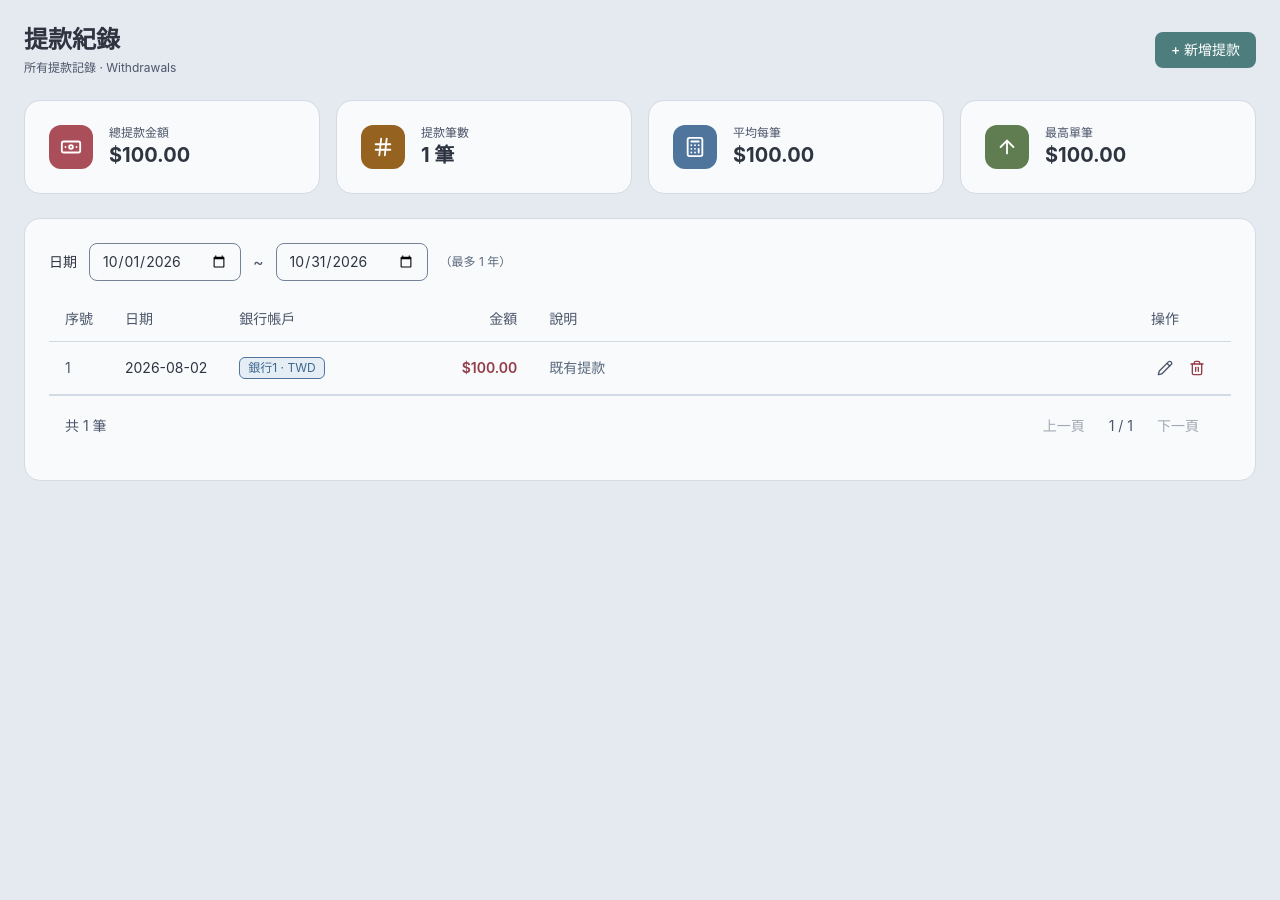
Test case: resolves a default outside the loaded options
This screenshot has width=1280, height=900.
Click the button "+ 新增提款".
click(1205, 50)  # box [1155,32,1256,68]
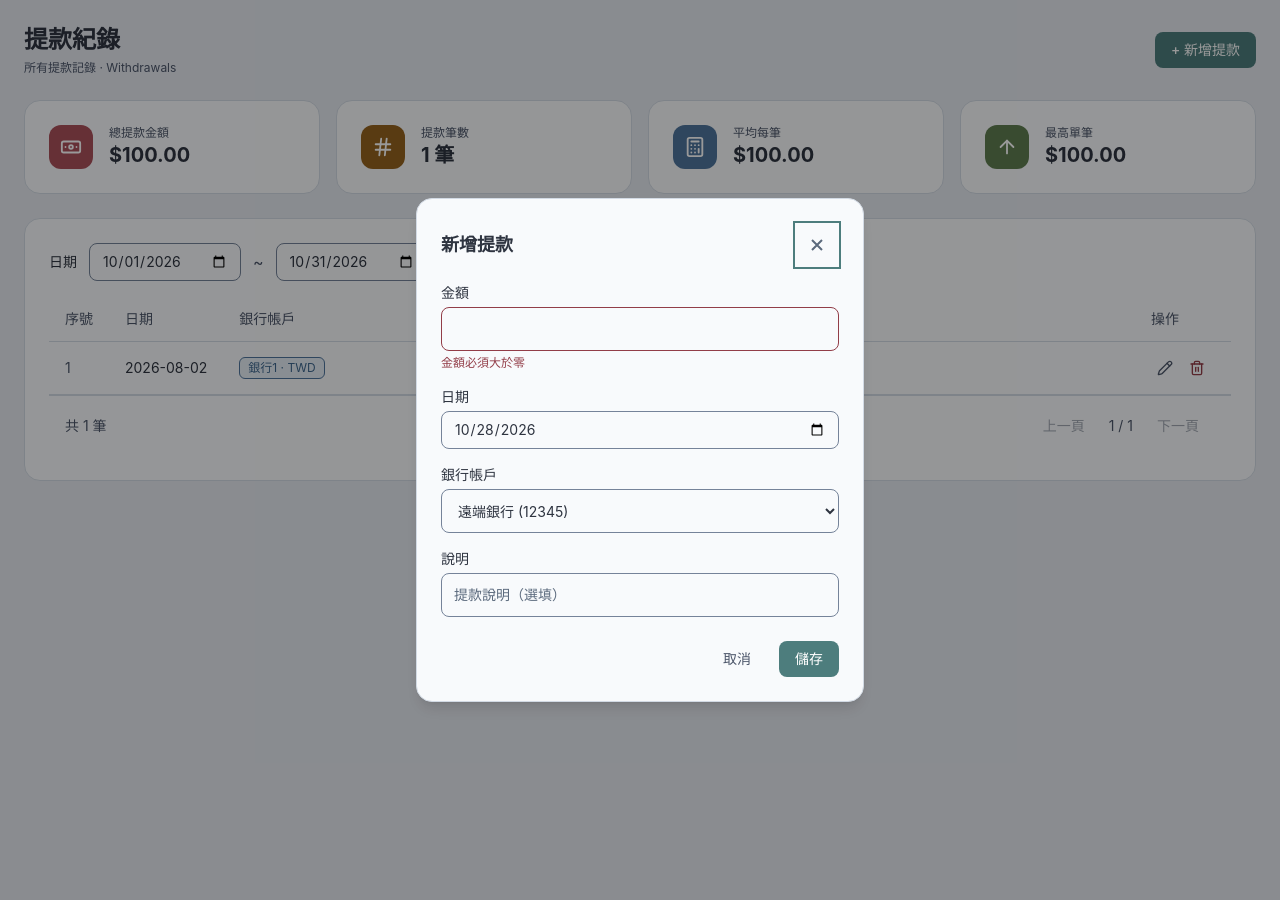
Result: the dropdown labelled "銀行帳戶" shows "遠端銀行 (12345)" at [441,489,839,533]
